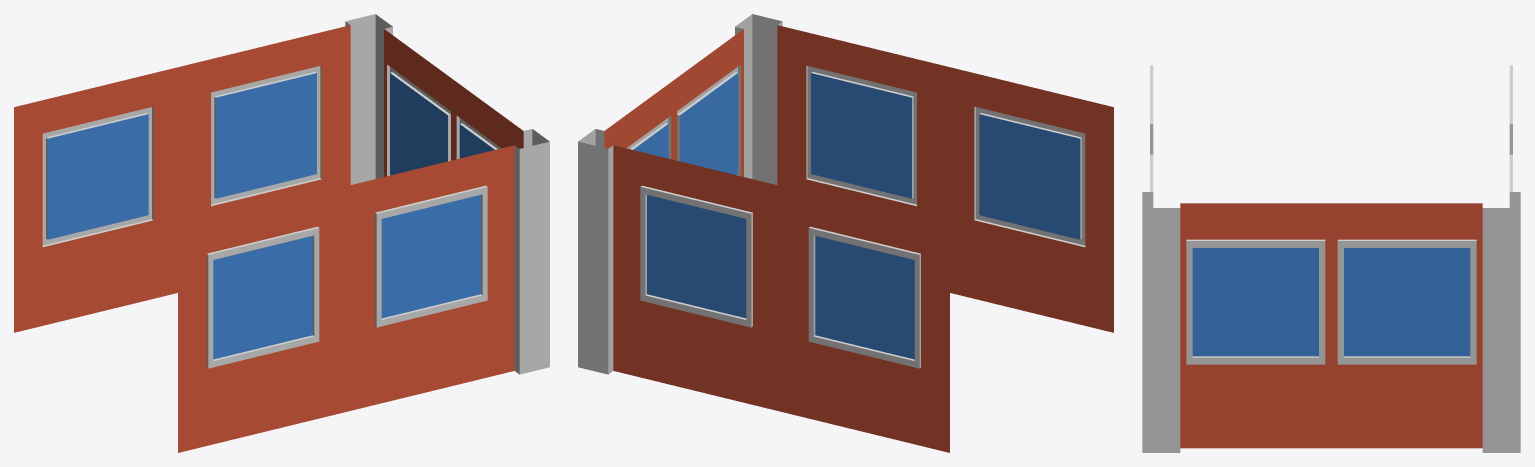
File: 04b_mid.fbx
3 renders of one model, left to right at view 1: azimuth 30°, elevation 25°; view 2: azimuth 150°, elevation 25°; view 3: azimuth 270°, elevation 25°, orthographic. The views are drawn at different scales.
Parts seen in each view (by area): view 1: 04B_Mid; view 2: 04B_Mid; view 3: 04B_Mid.
Part boxes in pixels (x1,y1,x2,y2): 04B_Mid: (14, 14, 549, 452); 04B_Mid: (578, 14, 1113, 452); 04B_Mid: (1142, 65, 1520, 452).
Size of the model in its own units: 42.5 by 35 by 25.
